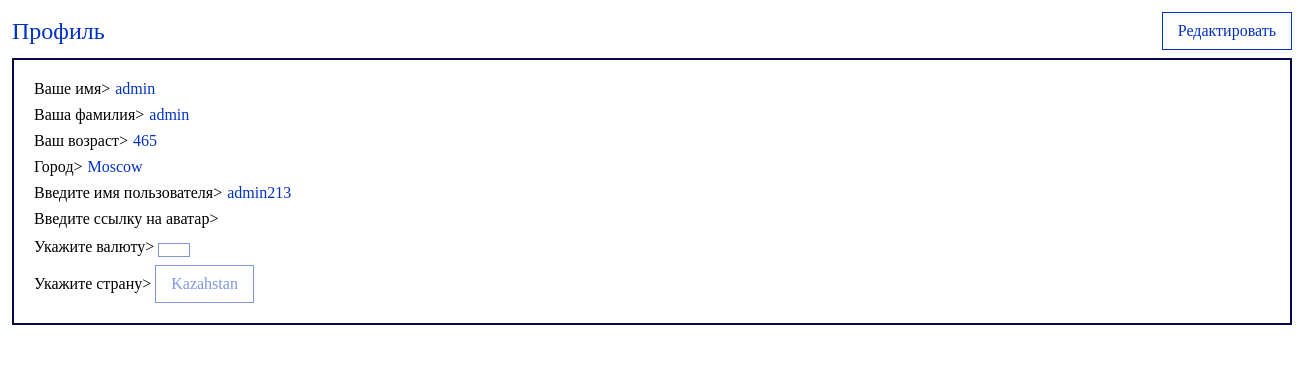
Scenario: features/EditableProfileCard › Ошибка валидации
Click the button with test id "EditableProfileCardHeader.EditButton" at (1227, 31), box x1=1162 y1=12 x2=1292 y2=50
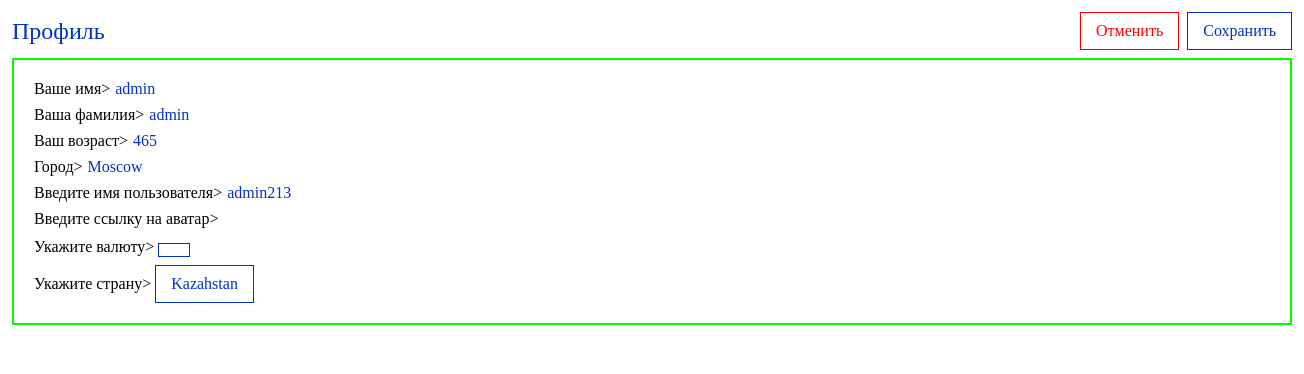
Clear the field with test id "ProfileCard.firstName" at (215, 89), box x1=115 y1=80 x2=315 y2=98
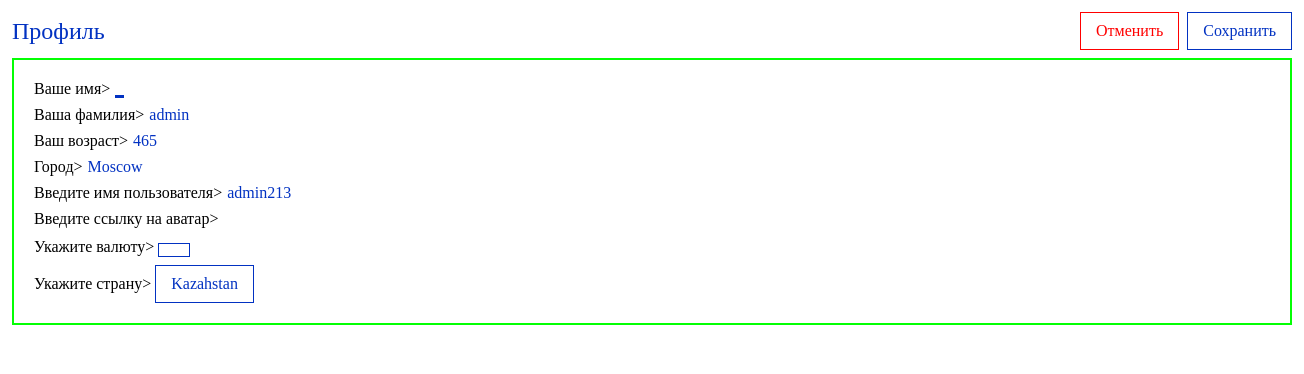
Click the button with test id "EditableProfileCardHeader.SaveButton" at (1240, 31), box x1=1187 y1=12 x2=1292 y2=50
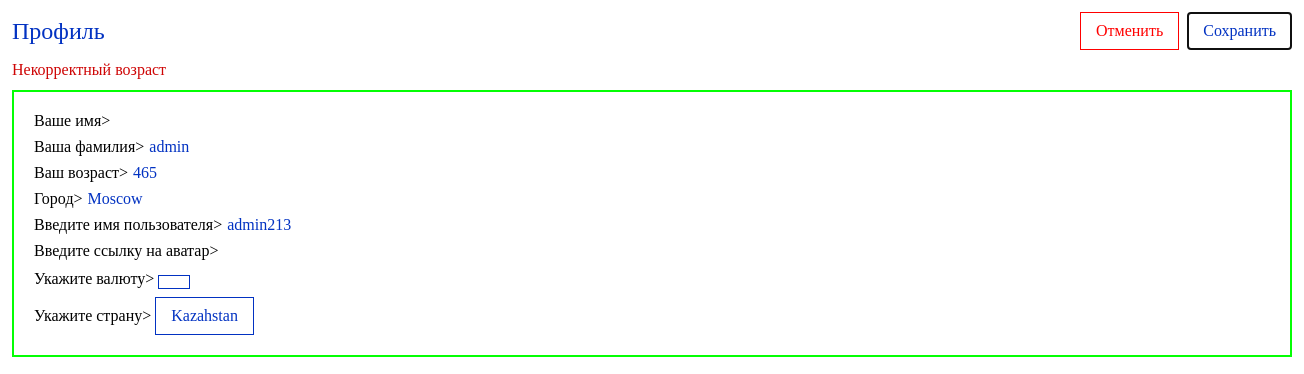
Result: the text "Некорректный возраст" is shown at x1=12 y1=58 x2=166 y2=82
